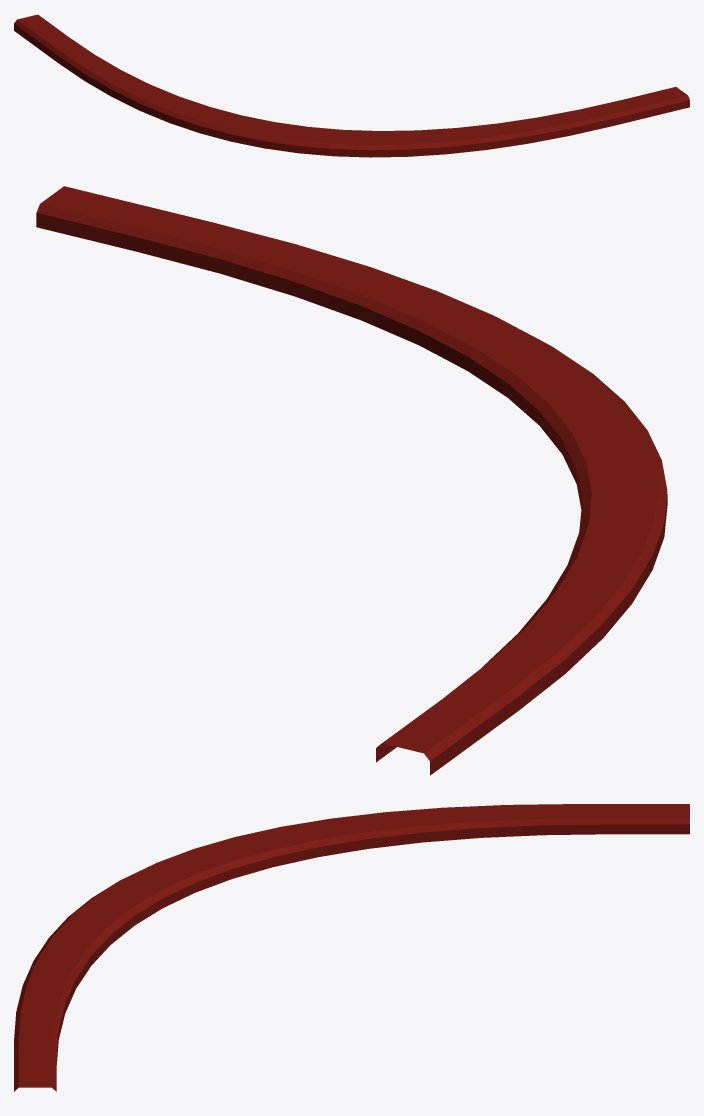
The model's file is edge_ground_corner_02.FBX.
3 views of the same model, one above another, from view 1: azimuth 30°, elevation 25°; view 2: azimuth 150°, elevation 25°; view 3: azimuth 270°, elevation 25° (orthographic). The views are drawn at different scales.
Visible parts, largest first — view 1: edge_ground_corner_02; view 2: edge_ground_corner_02; view 3: edge_ground_corner_02.
Boxes of the visible parts, x1,y1,x2,y2 form: edge_ground_corner_02: (14,14,689,157); edge_ground_corner_02: (36,186,667,775); edge_ground_corner_02: (14,804,689,1091).
Size of the model in its own units: 427 by 9.95 by 427.
